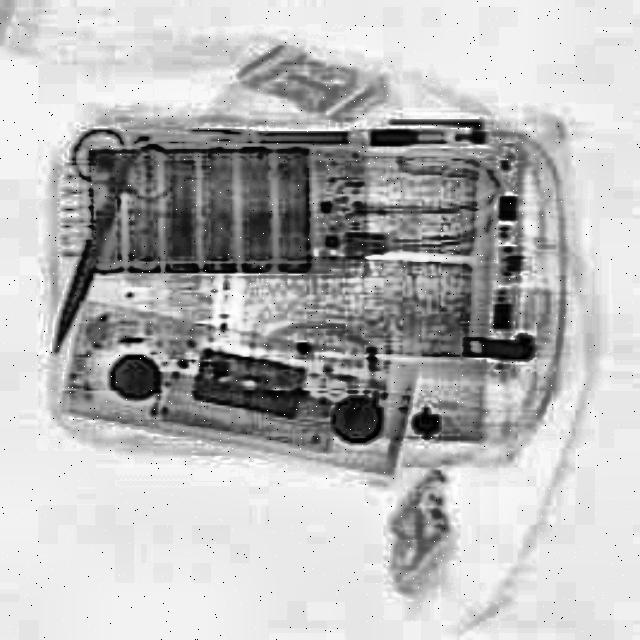Scissors: (1, 126, 180, 372)
